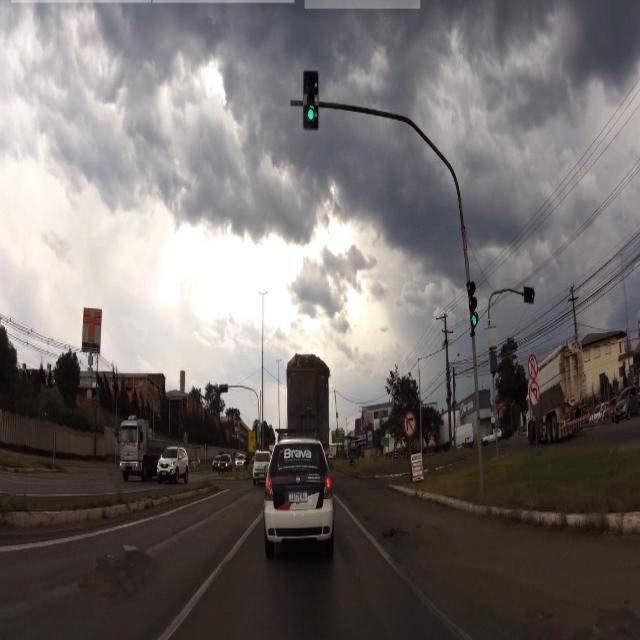R-4a: (529, 381, 541, 409)
R-4b: (404, 410, 416, 439)
R-5a: (526, 355, 540, 378)
